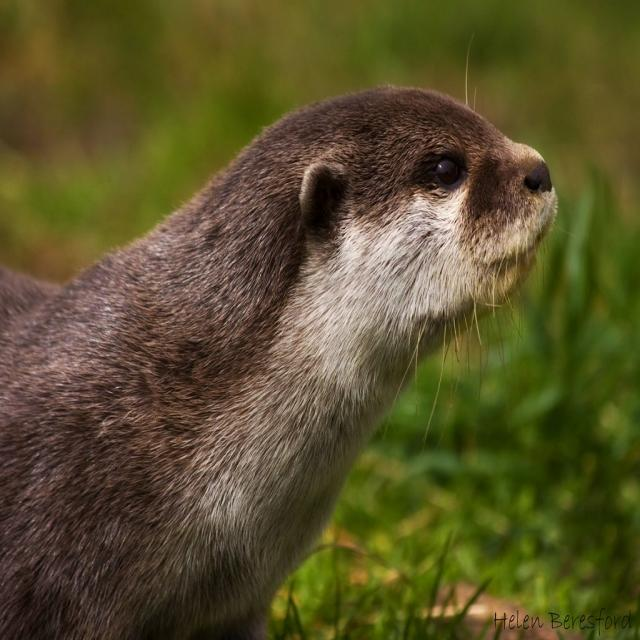otter: (1, 87, 558, 640)
